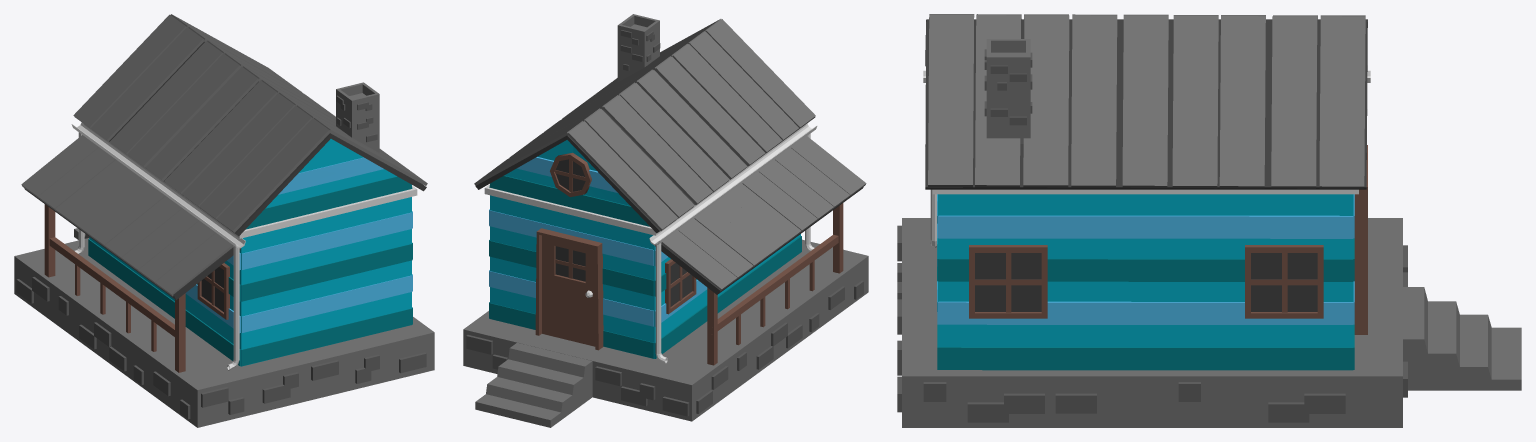
The model's file is House_1.FBX.
The picture shows the model from 3 angles, left to right: view 1: azimuth 30°, elevation 25°; view 2: azimuth 150°, elevation 25°; view 3: azimuth 270°, elevation 25°; orthographic projection. The views are drawn at different scales.
Visible parts, largest first — view 1: House_1; view 2: House_1; view 3: House_1.
Boxes of the visible parts, <box> form: House_1: <box>14,14,434,427</box>; House_1: <box>463,14,868,427</box>; House_1: <box>897,14,1521,427</box>.
Bounding box in the file's own units: 500 × 491 × 785.
